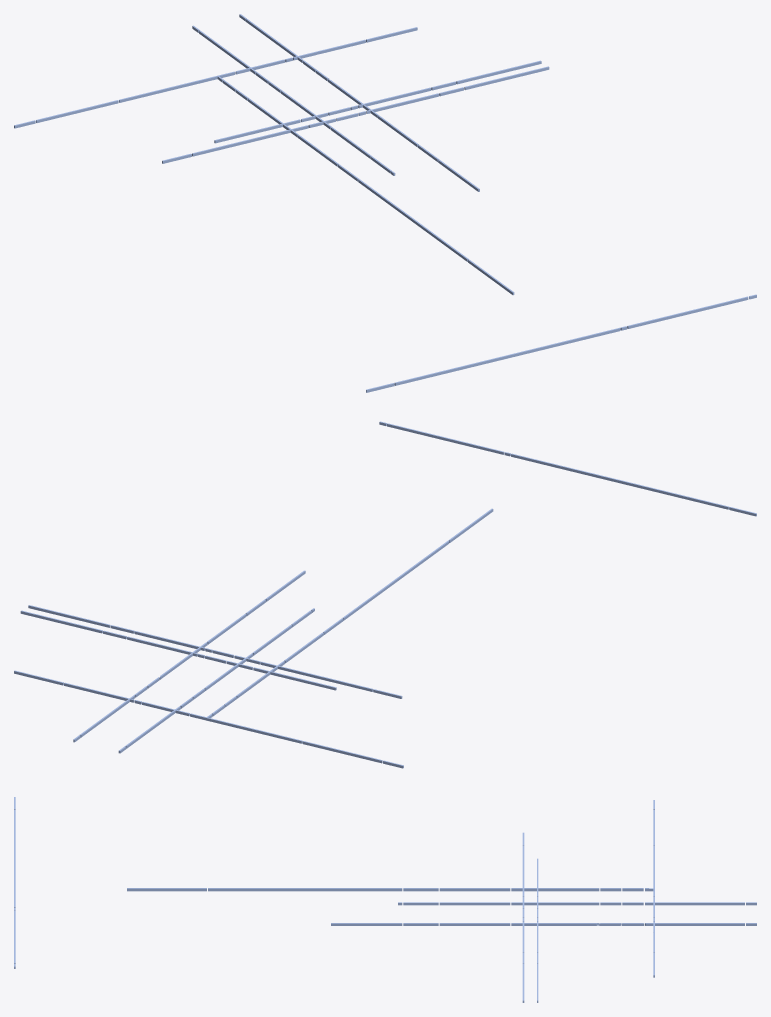
The model's file is major_roads.glb.
The picture shows the model from 3 angles, top to bottom: view 1: azimuth 30°, elevation 25°; view 2: azimuth 150°, elevation 25°; view 3: azimuth 270°, elevation 25°; orthographic projection. The views are drawn at different scales.
Visible parts, largest first — view 1: world; view 2: world; view 3: world.
Part boxes in pixels (x1,y1,x2,y2): world: (14, 14, 756, 392); world: (14, 421, 756, 768); world: (14, 797, 756, 1002).
Size of the model in its own units: 185 by 1 by 286.
